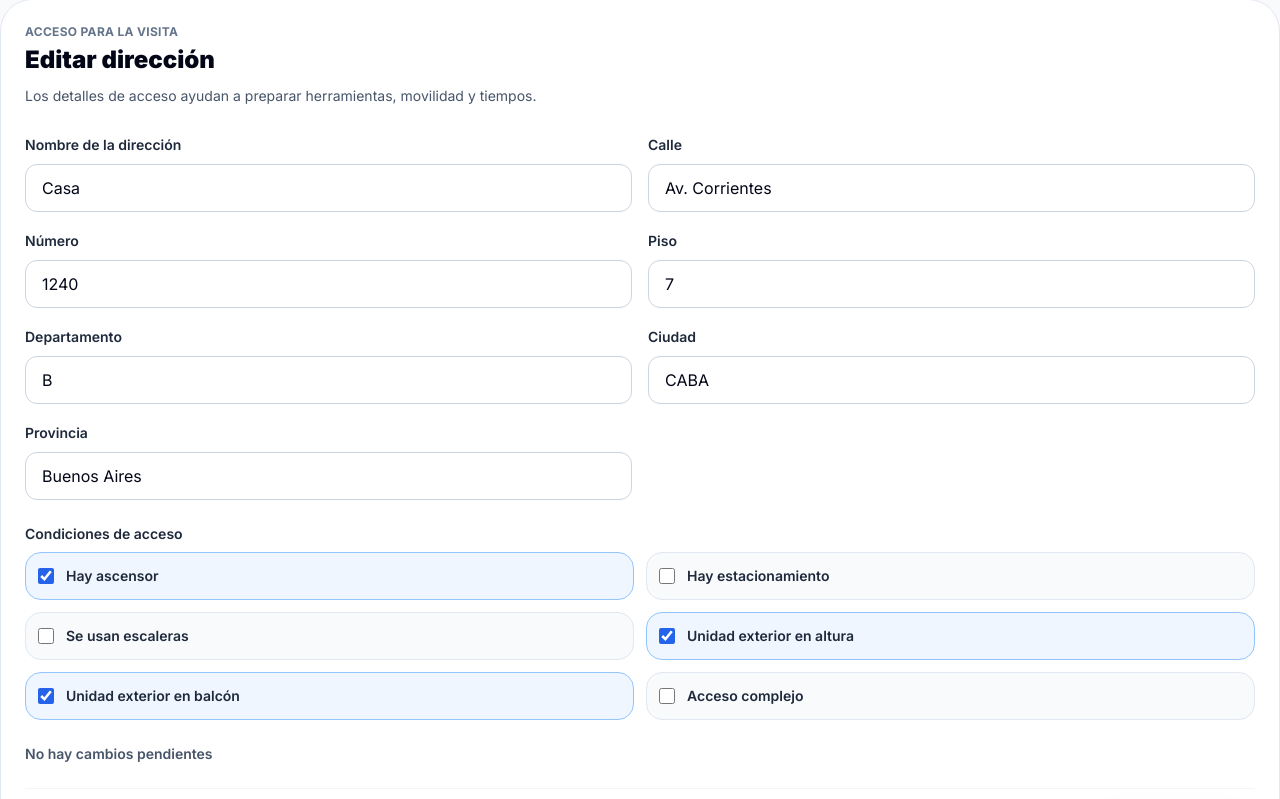
Scenario: customer account forms › models address access as structured controls and blocks invalid submissions
Click the checkbox labelled "Hay ascensor".
click(46, 576)  # box [38,568,54,584]
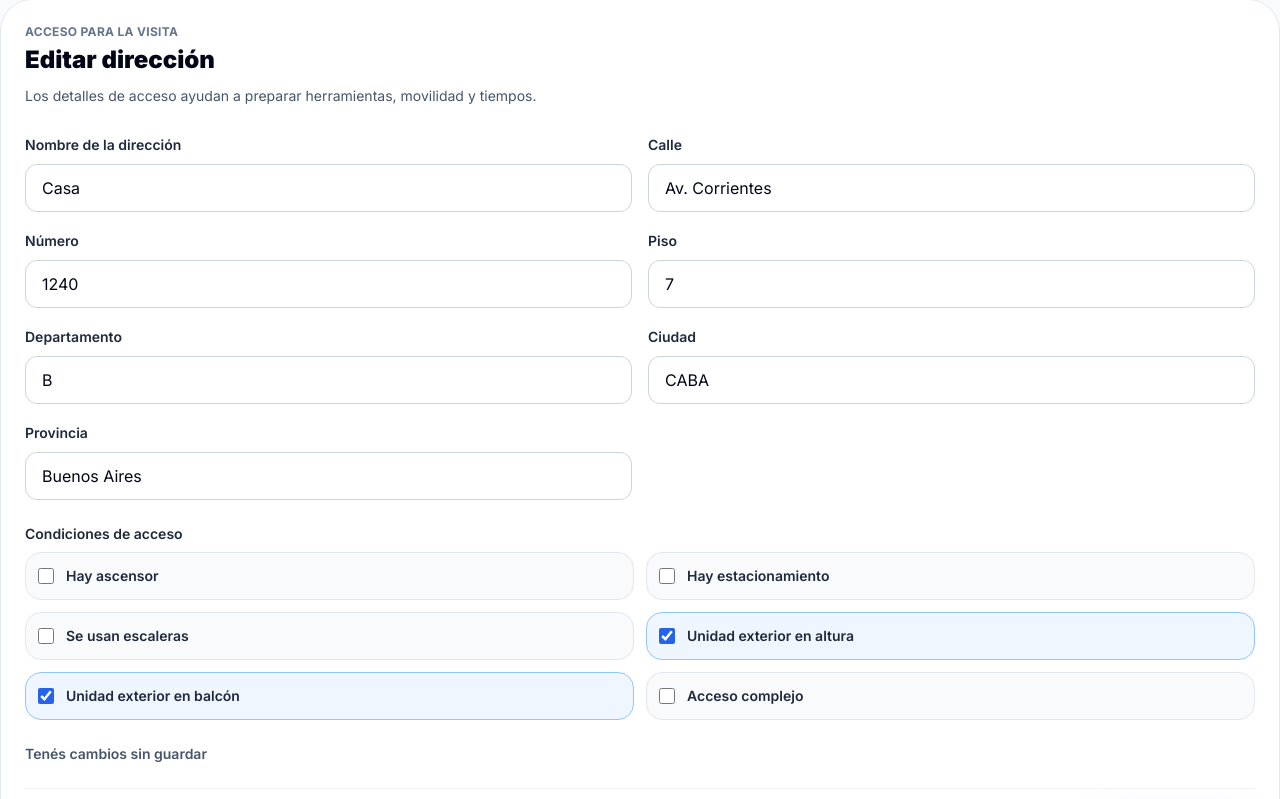
Result: the checkbox labelled "Hay ascensor" is not checked at [38,568,54,584]
Clear the field labelled "Calle" at (952, 188), box [648,164,1255,212]
(page scrolled)
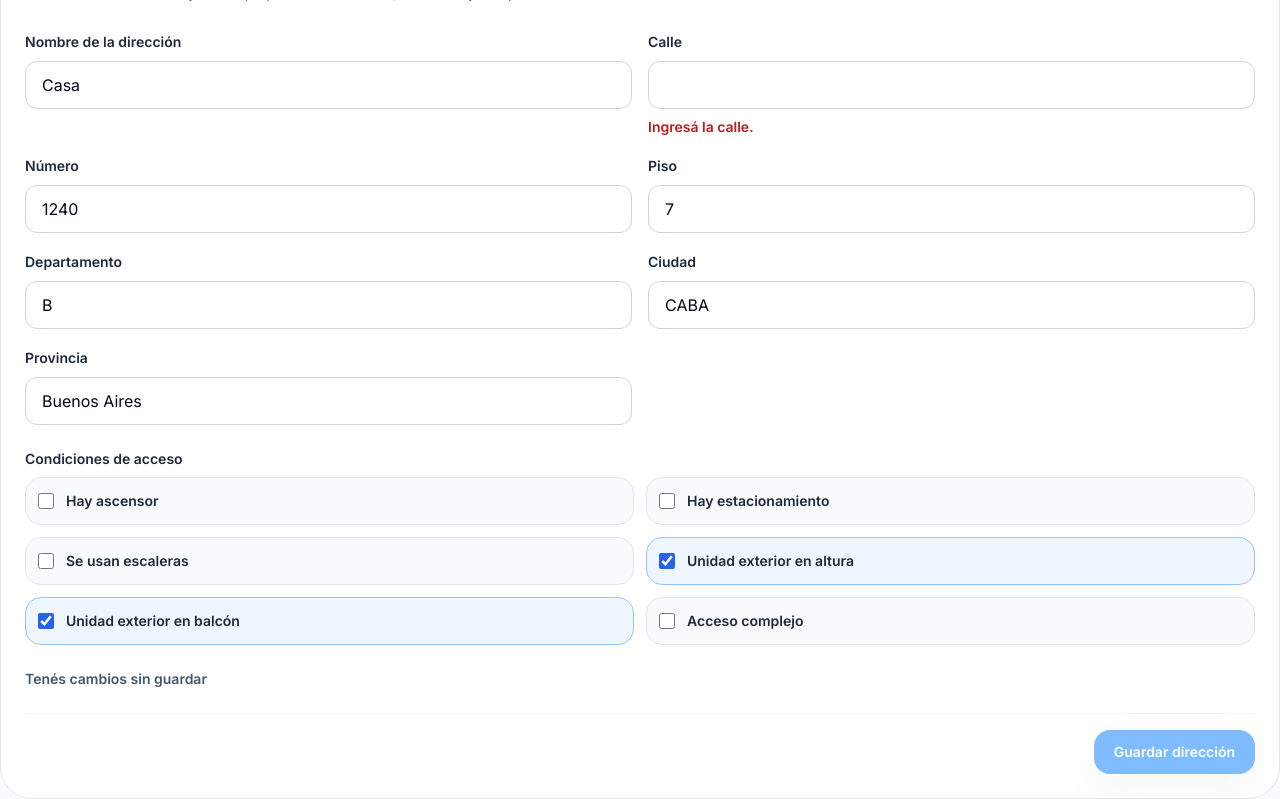
Result: the text "Ingresá la calle." is shown at [648,118,754,135]
Result: the button "Guardar dirección" is disabled at [1094,730,1255,774]
